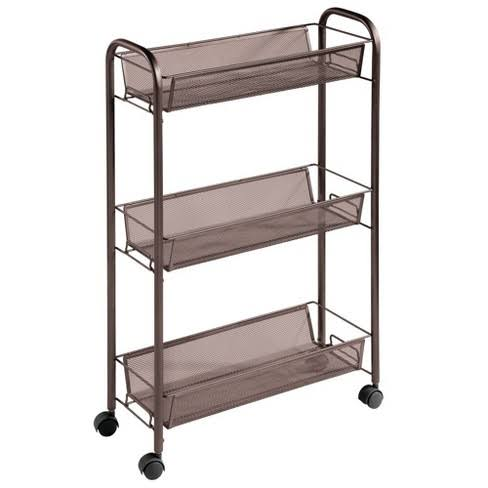Carts: (92, 6, 383, 480)
